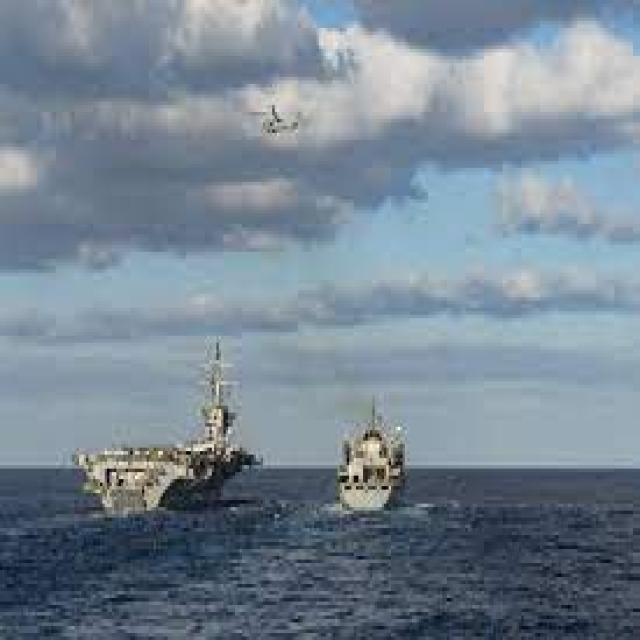navalvessels: (66, 344, 250, 508), (330, 392, 405, 528)
